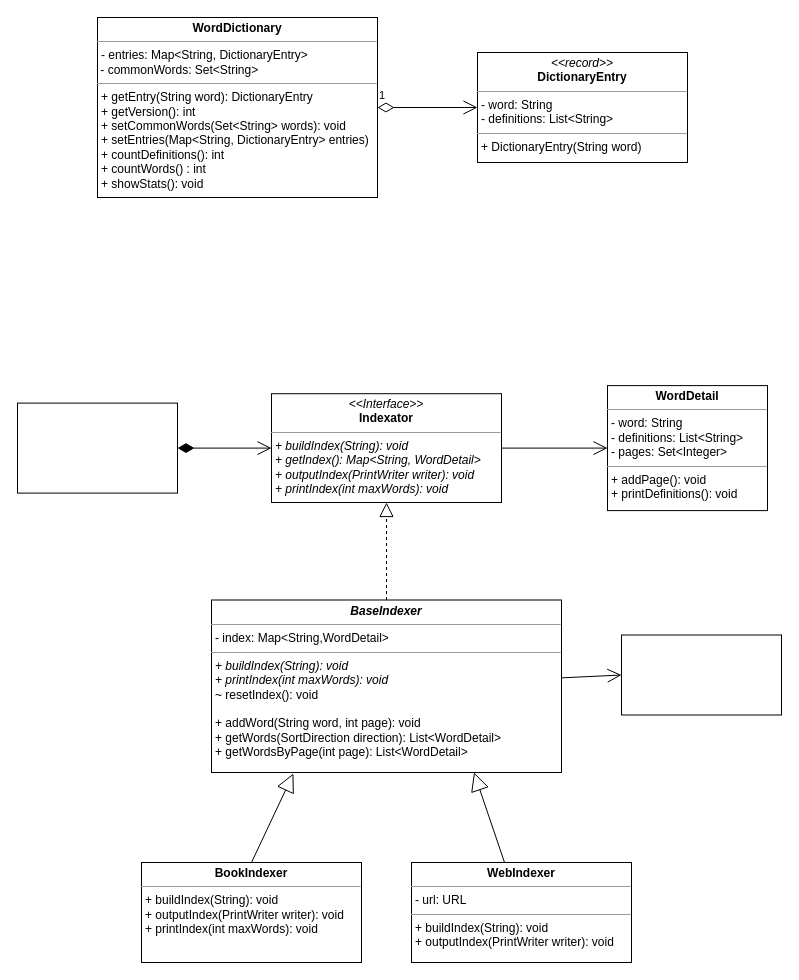
Image size: 799x980. Some labels were removed from this diagram. Here are the shapes that lost their labels. From the top down, the box of each, then its label:
(16, 402, 178, 493): Main Menu - indexator: Indexator // omitted for brevity
(620, 634, 782, 715): <<enumeration>> SortDirection ASC DESC
